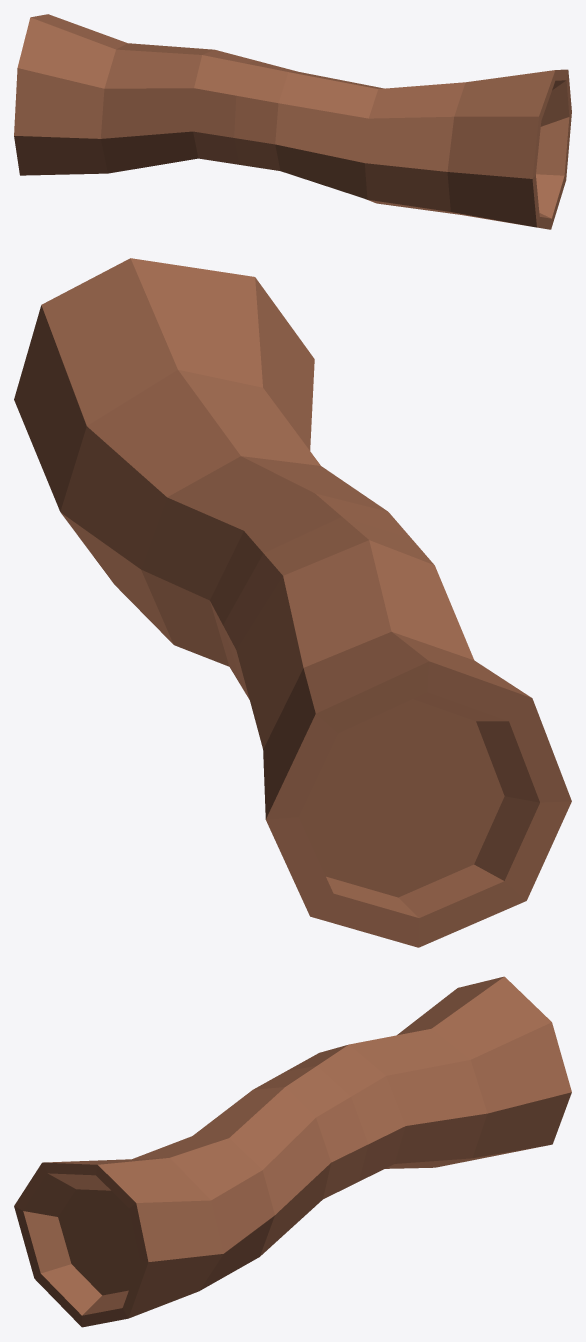
The model's file is woodBlock.fbx.
3 renders of one model, top to bottom at view 1: azimuth 30°, elevation 25°; view 2: azimuth 150°, elevation 25°; view 3: azimuth 270°, elevation 25°, orthographic. The views are drawn at different scales.
Parts seen in each view (by area): view 1: Cylinder.030; view 2: Cylinder.030; view 3: Cylinder.030.
Boxes of the visible parts, x1,y1,x2,y2 form: Cylinder.030: [14, 14, 571, 229]; Cylinder.030: [14, 258, 571, 947]; Cylinder.030: [14, 976, 571, 1327].
Bounding box in the file's own units: 234 × 80.52 × 237.
